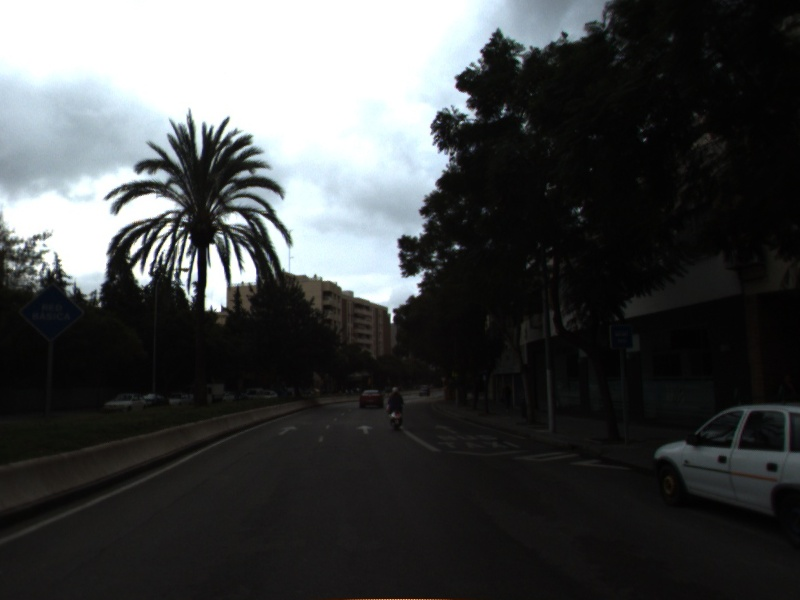STRAIGHT: (433, 422, 459, 435), (276, 424, 299, 437), (354, 423, 376, 436)
